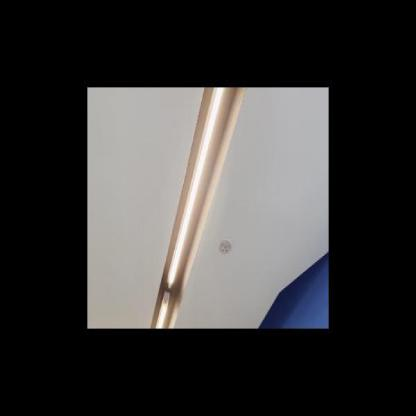light_on: (165, 87, 227, 287), (152, 289, 171, 328)
